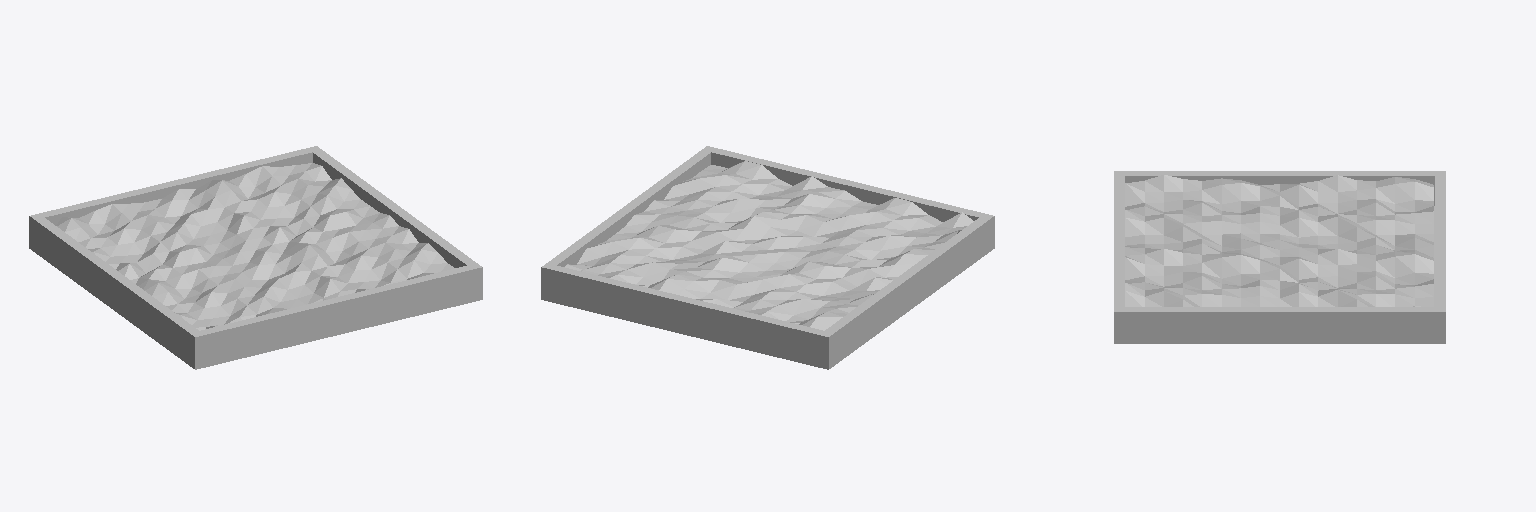
File: MapAR4.obj
The picture shows the model from 3 angles: view 1: azimuth 30°, elevation 25°; view 2: azimuth 150°, elevation 25°; view 3: azimuth 270°, elevation 25°; orthographic projection.
Parts seen in each view (by area): view 1: Cube.001_Cube.002; view 2: Cube.001_Cube.002; view 3: Cube.001_Cube.002.
Boxes of the visible parts, <box> form: Cube.001_Cube.002: <box>29,146,482,369</box>; Cube.001_Cube.002: <box>541,146,994,369</box>; Cube.001_Cube.002: <box>1114,171,1445,343</box>.
Bounding box in the file's own units: 1.23 × 0.149 × 1.23.